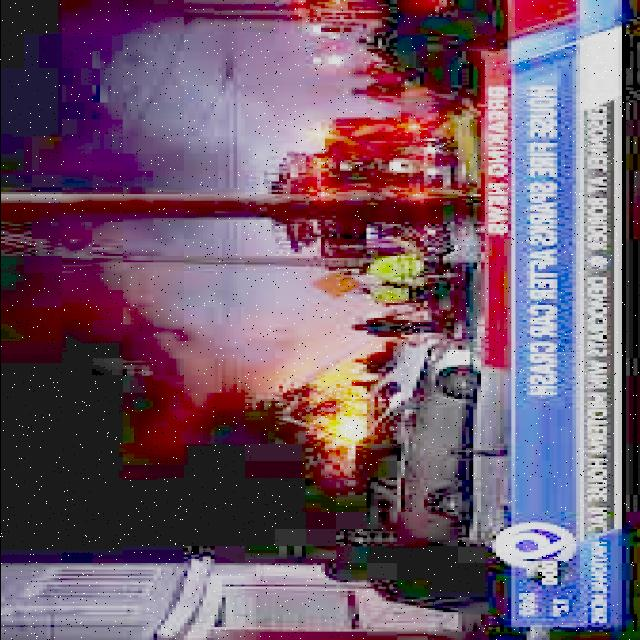api: (295, 375, 375, 469)
